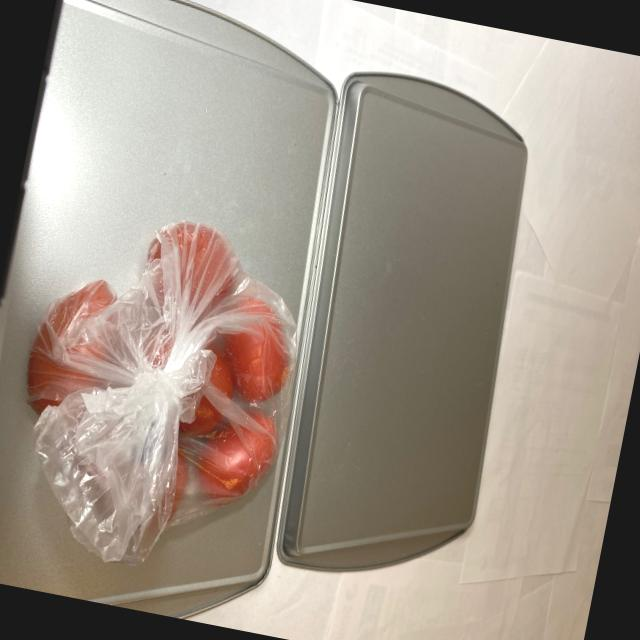tomato: (1, 204, 317, 554)
